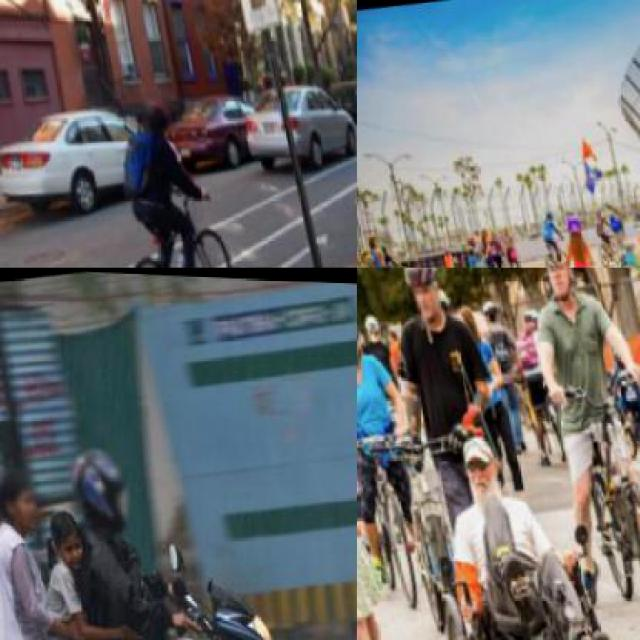With Helmet: (61, 431, 138, 543), (398, 268, 448, 329), (135, 88, 176, 135), (534, 268, 584, 300), (557, 204, 581, 239), (620, 225, 638, 266), (357, 308, 366, 366)
Without Helmet: (0, 460, 38, 526), (42, 503, 84, 560)
